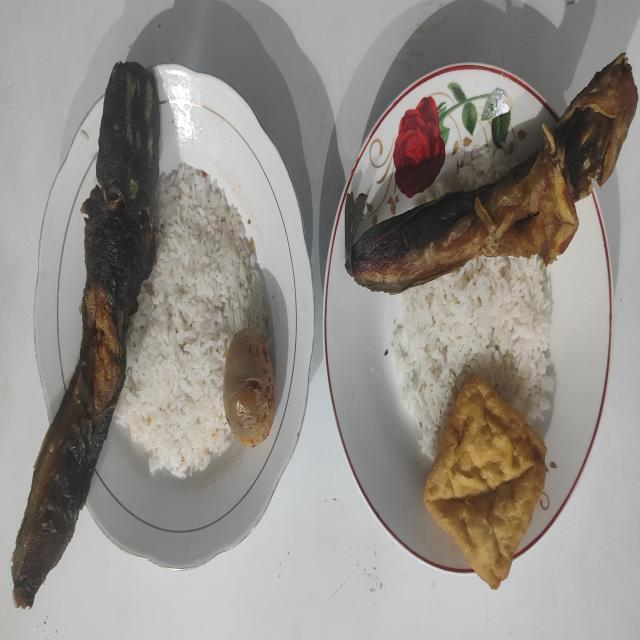nasi_putih: (115, 164, 268, 477), (386, 256, 555, 461)
tahu_goreng: (424, 374, 546, 588)
